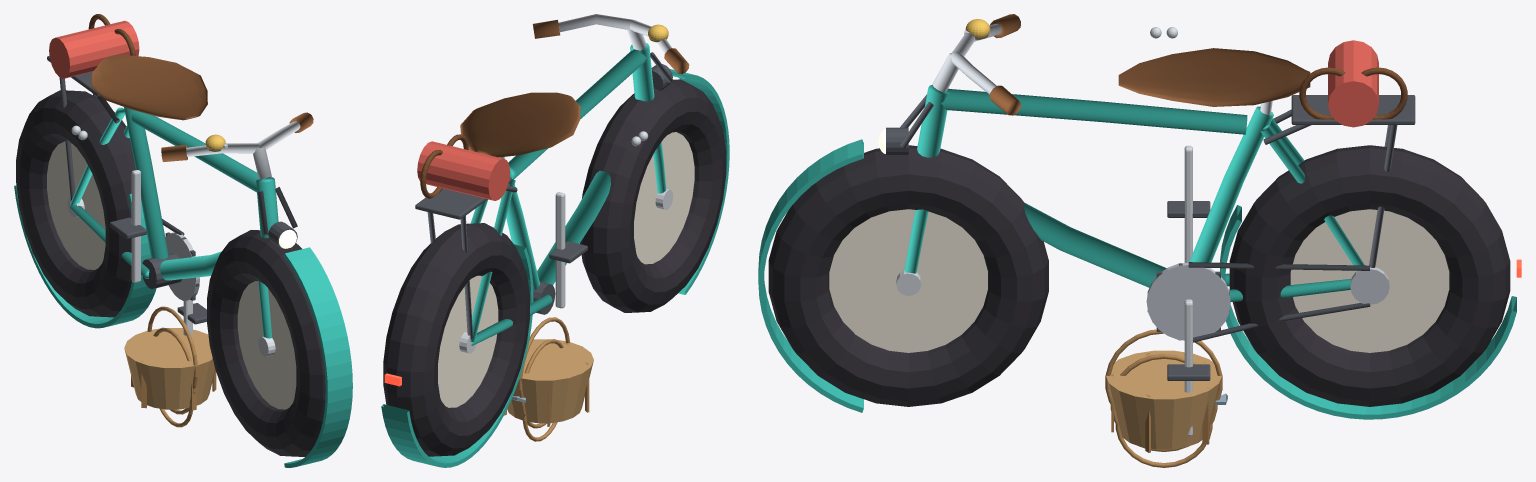
File: bike.glb
The picture shows the model from 3 angles, left to right: view 1: azimuth 30°, elevation 25°; view 2: azimuth 150°, elevation 25°; view 3: azimuth 270°, elevation 25°; orthographic projection. The views are drawn at different scales.
Parts seen in each view (by area): view 1: TireR, TireF, FenderF, Saddle, BasketBody, RimF, RimR, Bedroll, SeatTube, FenderR, TopTube, DownTube (+17 smaller); view 2: TireR, TireF, Saddle, RimF, BasketBody, RimR, Bedroll, FenderR, DownTube, TopTube, FenderF, RackTop (+15 smaller); view 3: TireR, TireF, RimF, RimR, Saddle, BasketBody, TopTube, FenderR, ChainRing, FenderF, Bedroll, DownTube (+12 smaller).
Boxes of the visible parts, bbox=[...] form: TireR: bbox=[16, 90, 135, 317]; TireF: bbox=[207, 230, 325, 456]; FenderF: bbox=[284, 247, 352, 467]; Saddle: bbox=[91, 55, 207, 120]; BasketBody: bbox=[124, 328, 215, 409]; RimF: bbox=[237, 281, 296, 409]; RimR: bbox=[47, 141, 105, 269]; Bedroll: bbox=[49, 20, 139, 78]; SeatTube: bbox=[124, 107, 168, 259]; FenderR: bbox=[14, 185, 156, 328]; TopTube: bbox=[131, 110, 265, 192]; DownTube: bbox=[160, 251, 221, 280]; TireR: bbox=[383, 223, 529, 456]; TireF: bbox=[580, 79, 726, 312]; Saddle: bbox=[460, 92, 580, 157]; RimF: bbox=[634, 132, 694, 264]; BasketBody: bbox=[507, 339, 593, 423]; RimR: bbox=[438, 275, 498, 407]; Bedroll: bbox=[417, 141, 510, 200]; FenderR: bbox=[381, 244, 533, 467]; DownTube: bbox=[537, 170, 610, 284]; TopTube: bbox=[508, 49, 646, 179]; FenderF: bbox=[670, 69, 729, 294]; RackTop: bbox=[415, 177, 512, 219]; TireR: bbox=[1229, 145, 1510, 406]; TireF: bbox=[768, 145, 1048, 406]; RimF: bbox=[829, 209, 987, 352]; RimR: bbox=[1290, 209, 1449, 352]; Saddle: bbox=[1118, 48, 1310, 106]; BasketBody: bbox=[1106, 350, 1222, 449]; TopTube: bbox=[941, 89, 1247, 134]; FenderR: bbox=[1220, 205, 1516, 419]; ChainRing: bbox=[1146, 262, 1230, 340]; FenderF: bbox=[758, 139, 863, 412]; Bedroll: bbox=[1328, 40, 1378, 127]; DownTube: bbox=[1024, 203, 1166, 287].
Size of the model in its own units: 0.5864 by 1.15 by 1.85.
